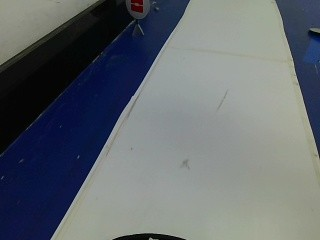company: (125, 0, 150, 20)
